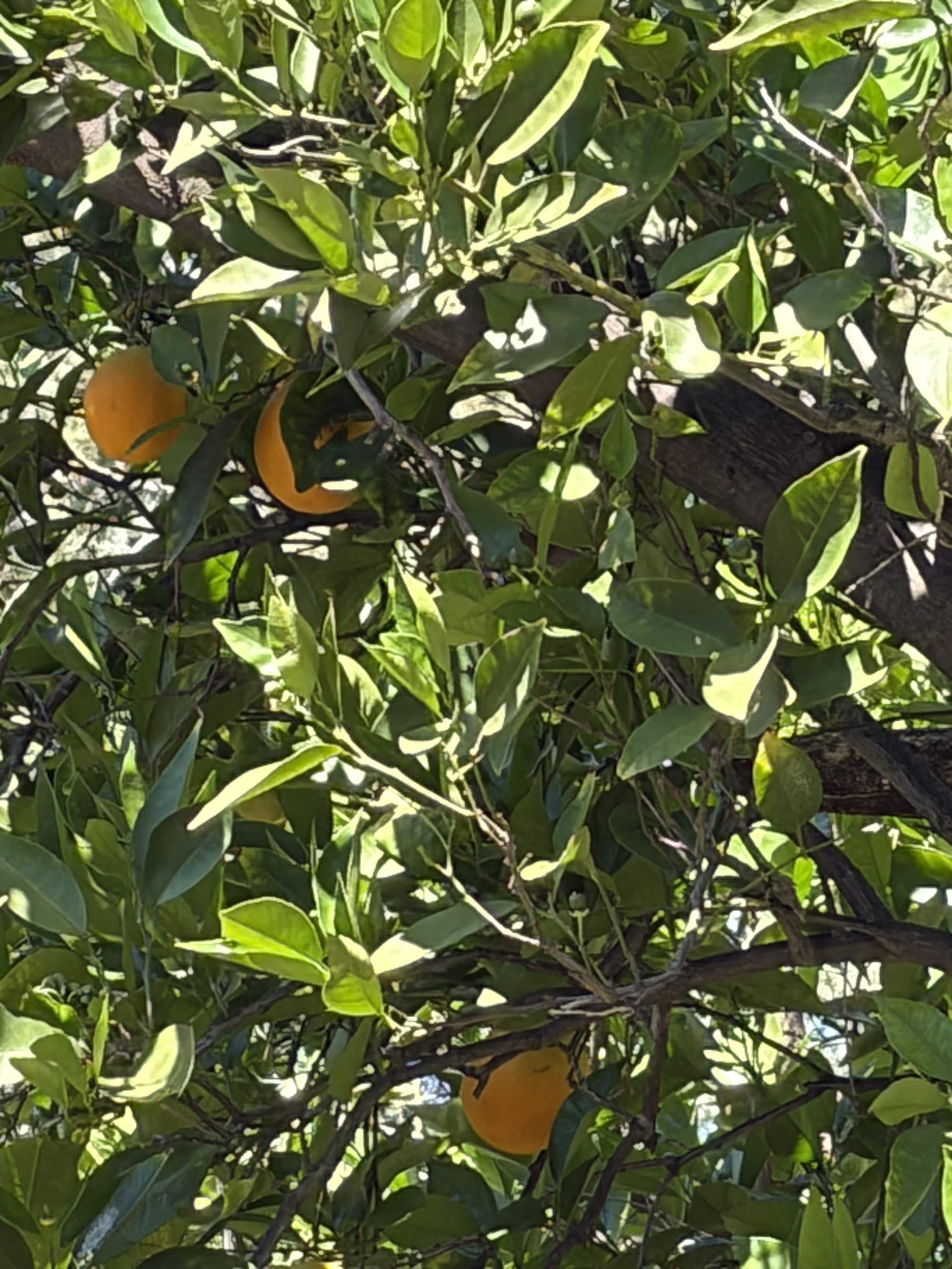orange: (255, 378, 379, 513), (462, 1038, 586, 1154), (83, 348, 186, 463)
